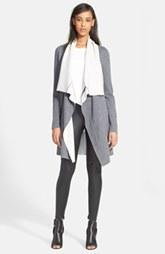S_cardigan sweater: (46, 38, 132, 159)
